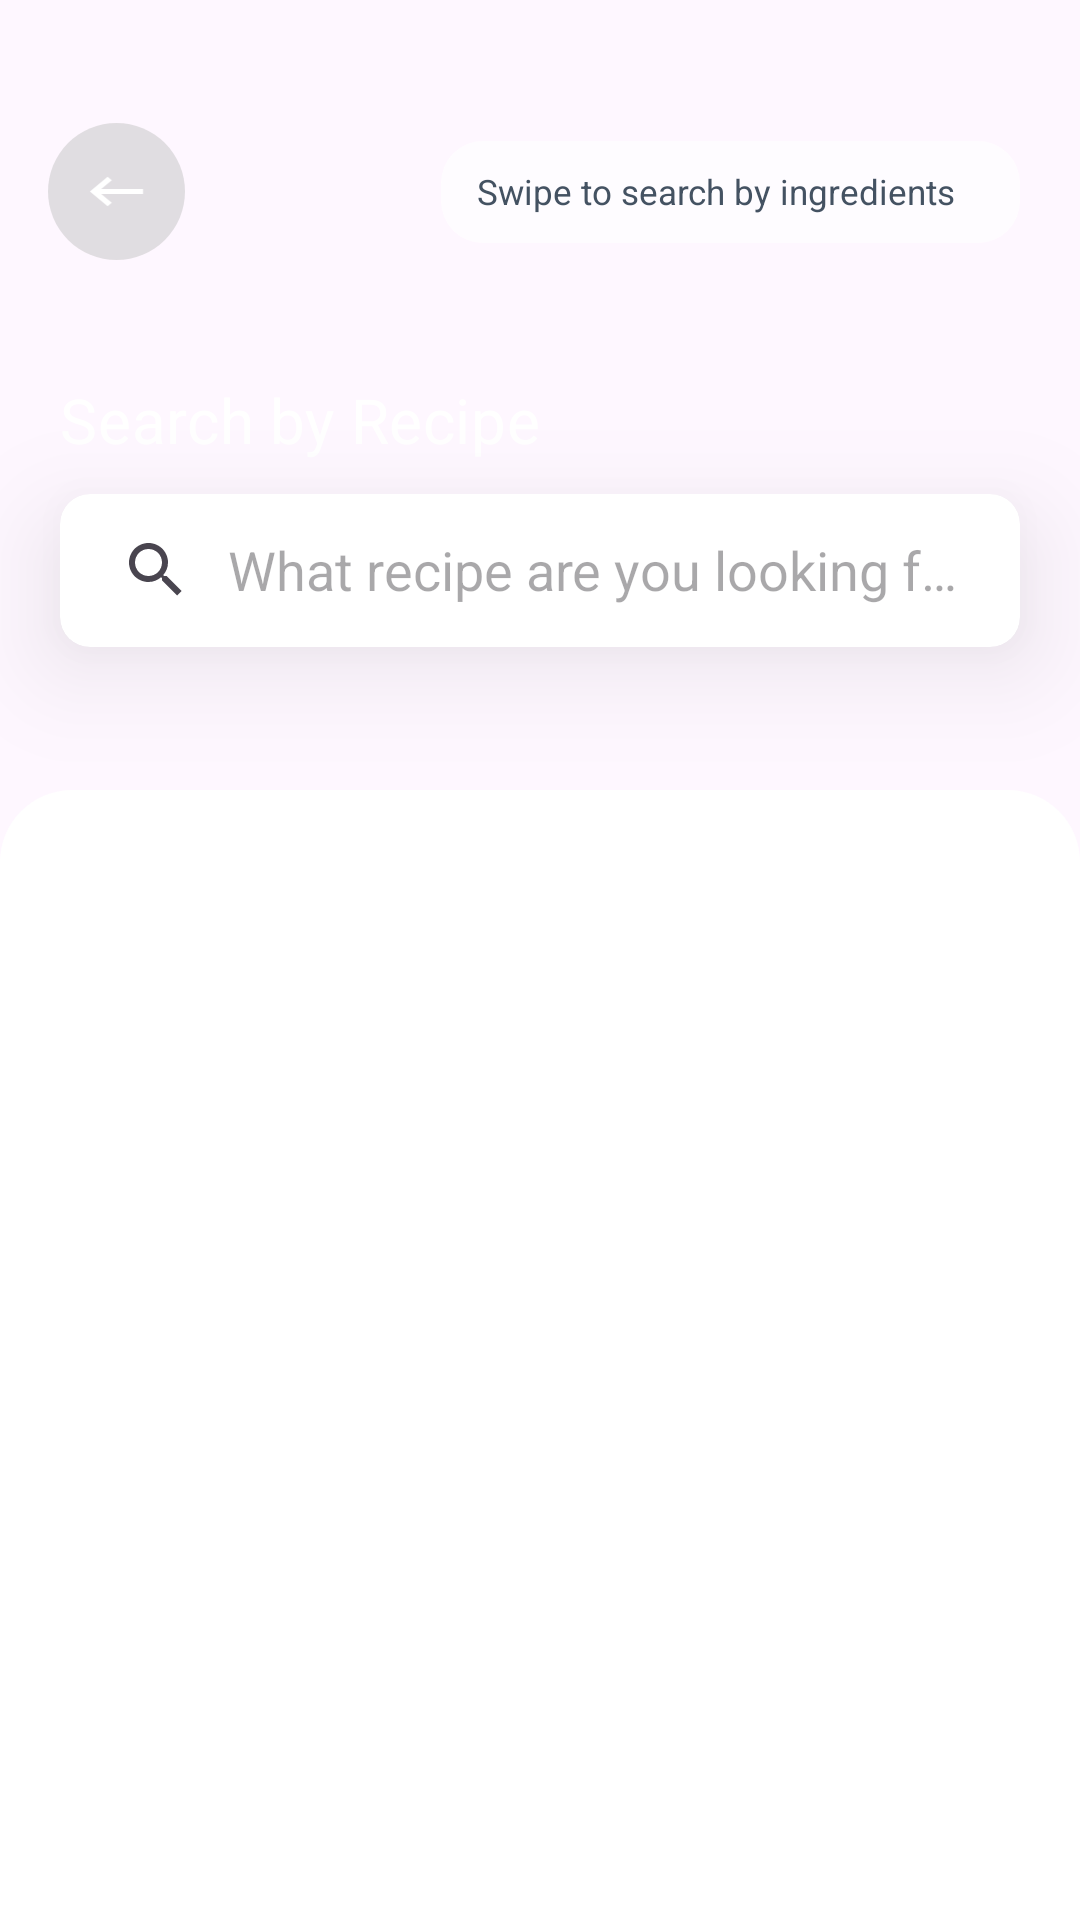

Screen size 1080x1920. Icon name, then its center in pixels as (x=x, y=y):
back: (x=116, y=191)
